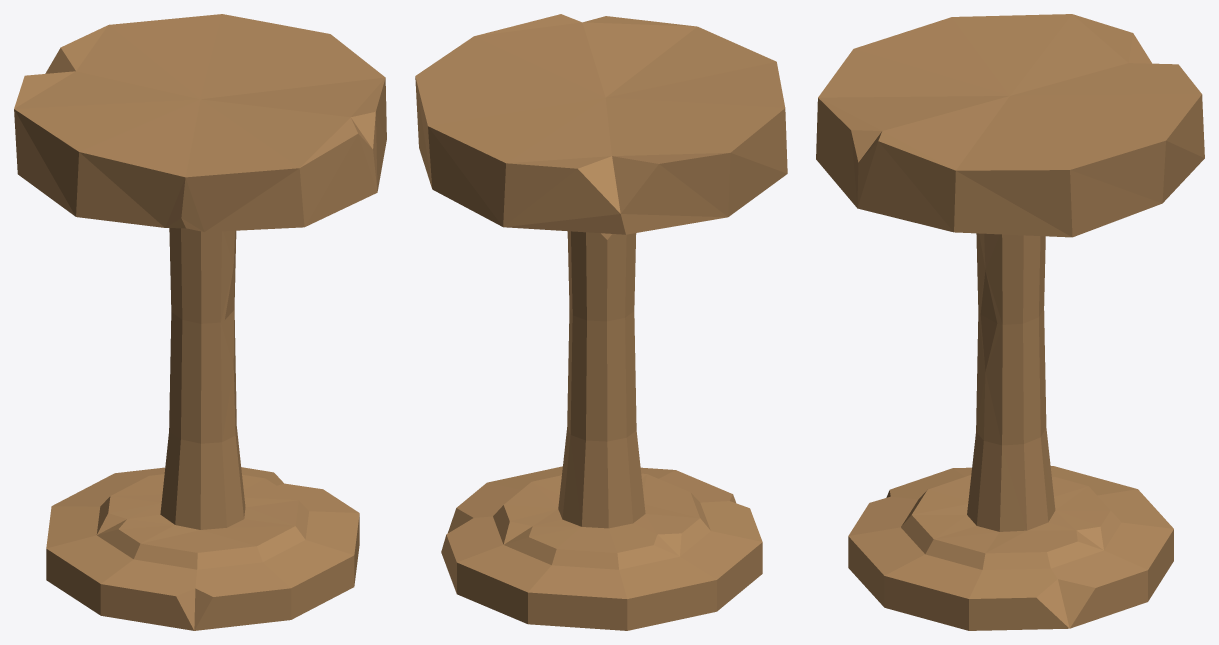
Rendered from SFI_Stool_002.fbx.
3 renders of one model, left to right at view 1: azimuth 30°, elevation 25°; view 2: azimuth 150°, elevation 25°; view 3: azimuth 270°, elevation 25°, orthographic.
Parts seen in each view (by area): view 1: SFI_Stool_002; view 2: SFI_Stool_002; view 3: SFI_Stool_002.
Boxes of the visible parts, box(x1,y1,x2,y2) form: SFI_Stool_002: box(14, 14, 386, 630); SFI_Stool_002: box(415, 14, 787, 630); SFI_Stool_002: box(816, 14, 1204, 630).
Bounding box in the file's own units: 41.14 × 58.94 × 43.69.
